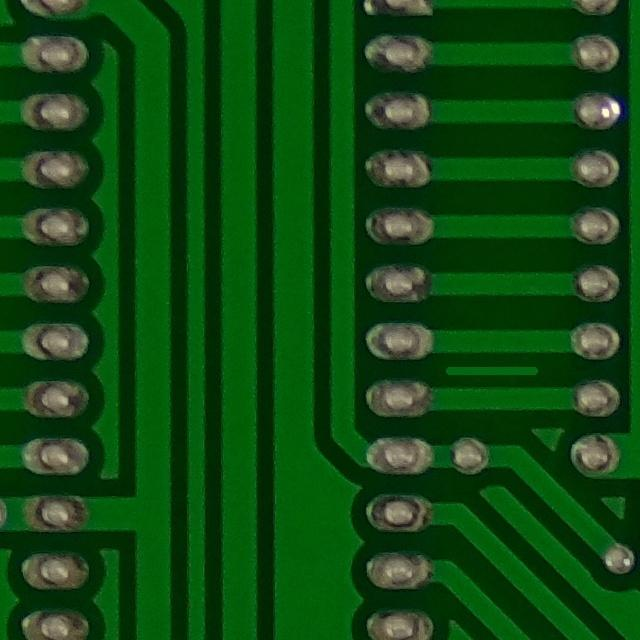spurious_copper: (437, 353, 547, 394)
